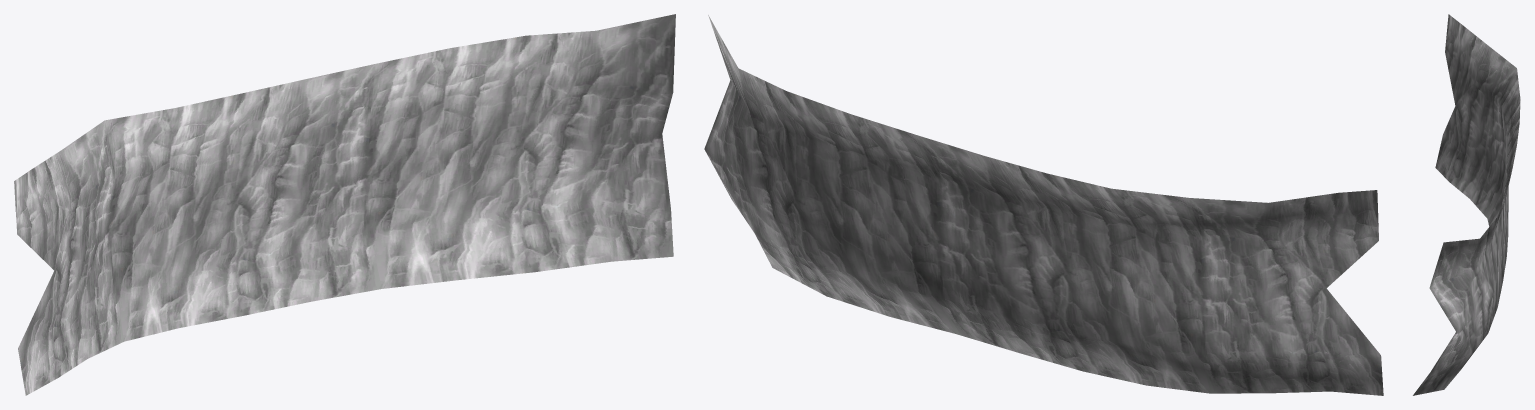
The model's file is SWORDLIGHT20_PS-AREA03_159.fbx.
3 renders of one model, left to right at view 1: azimuth 30°, elevation 25°; view 2: azimuth 150°, elevation 25°; view 3: azimuth 270°, elevation 25°, orthographic. The views are drawn at different scales.
Parts seen in each view (by area): view 1: SWORDLIGHT20_PS-AREA03_159; view 2: SWORDLIGHT20_PS-AREA03_159; view 3: SWORDLIGHT20_PS-AREA03_159.
Part boxes in pixels (box(x1,y1,x2,y2)): SWORDLIGHT20_PS-AREA03_159: box(14, 14, 675, 395); SWORDLIGHT20_PS-AREA03_159: box(704, 15, 1383, 395); SWORDLIGHT20_PS-AREA03_159: box(1413, 14, 1520, 395).
Size of the model in its own units: 151487 by 51860 by 29429.
1 material, 1 textured.
